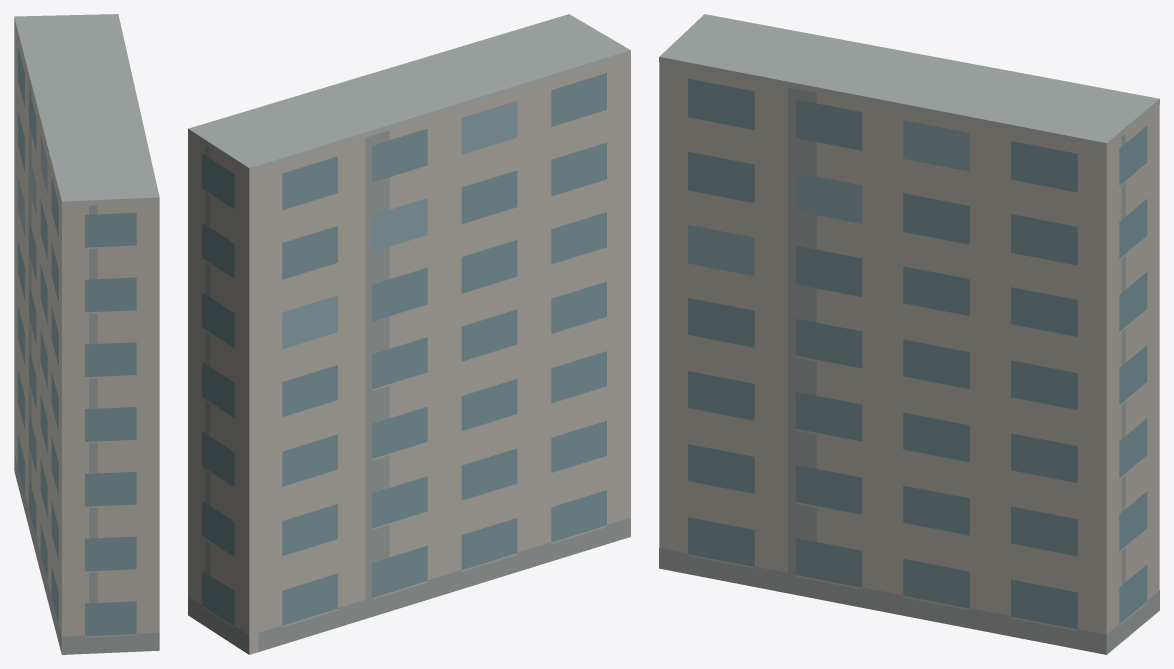
The model's file is survey-upis-33003183.glb.
The picture shows the model from 3 angles, left to right: view 1: azimuth 30°, elevation 25°; view 2: azimuth 150°, elevation 25°; view 3: azimuth 270°, elevation 25°; orthographic projection. The views are drawn at different scales.
Visible parts, largest first — view 1: survey-upis-33003183.tmp; view 2: survey-upis-33003183.tmp; view 3: survey-upis-33003183.tmp.
Boxes of the visible parts, x1,y1,x2,y2 form: survey-upis-33003183.tmp: [14, 14, 159, 654]; survey-upis-33003183.tmp: [188, 14, 630, 654]; survey-upis-33003183.tmp: [659, 14, 1159, 654].
Bounding box in the file's own units: 11.56 × 21.35 × 18.94.
